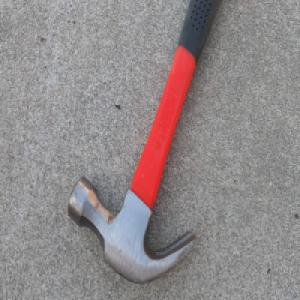Hammer: (67, 0, 227, 288)
